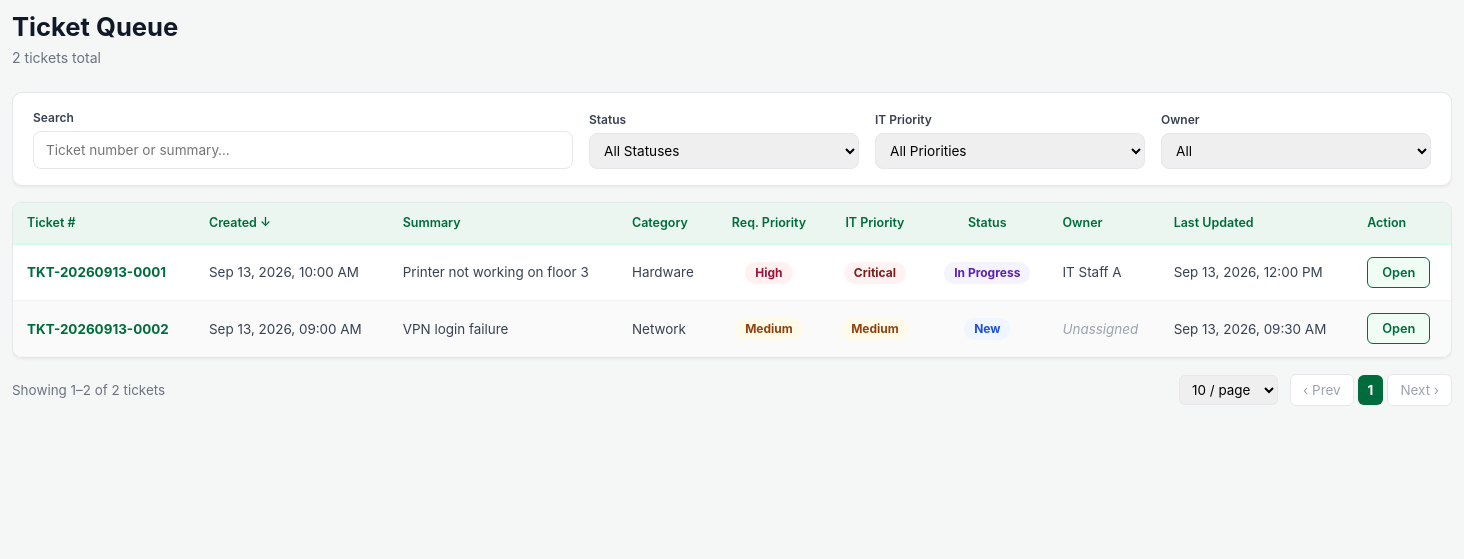
it: UI-09 — StaffTicketQueue search filters the list › shows "Clear Filters" button in no-results state
The width and height of the screenshot is (1464, 559).
expect the text "TKT-20260913-0001" is shown: met, box [13,244,195,301]
Type "noresult" into the field with placeholder "Ticket number or summary…". click: (303, 150)
box: [33,131,573,169]
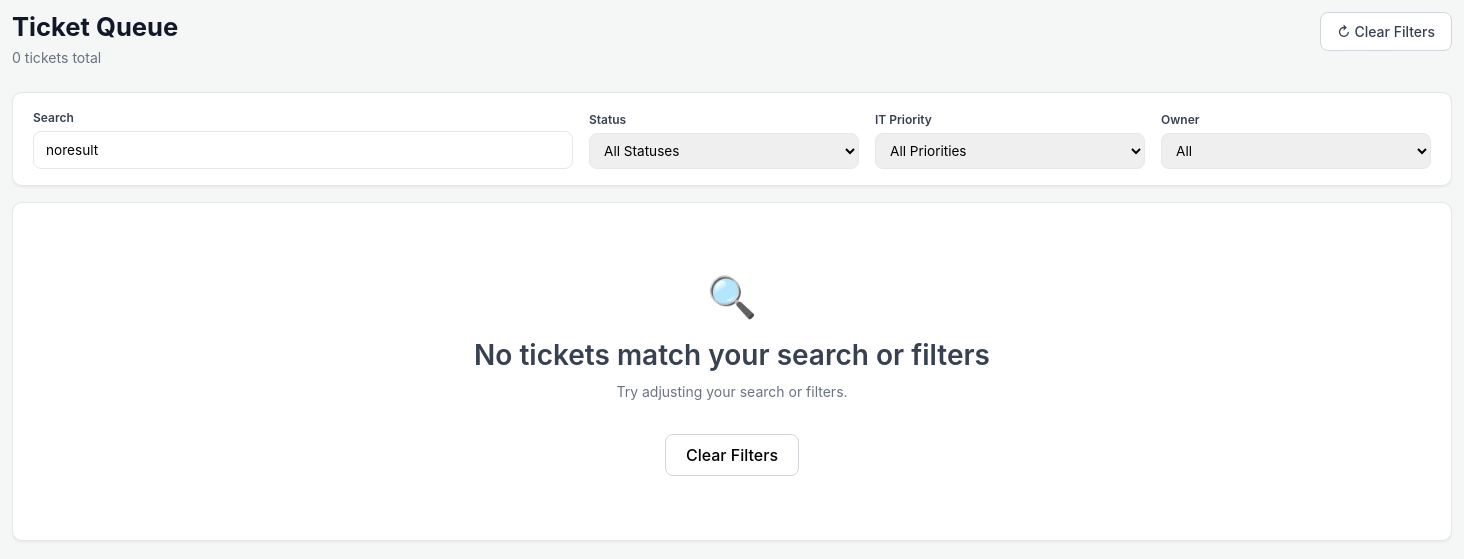
expect the element that starts with "No tickets match your search or filters" is shown: met, box [12,202,1452,541]
